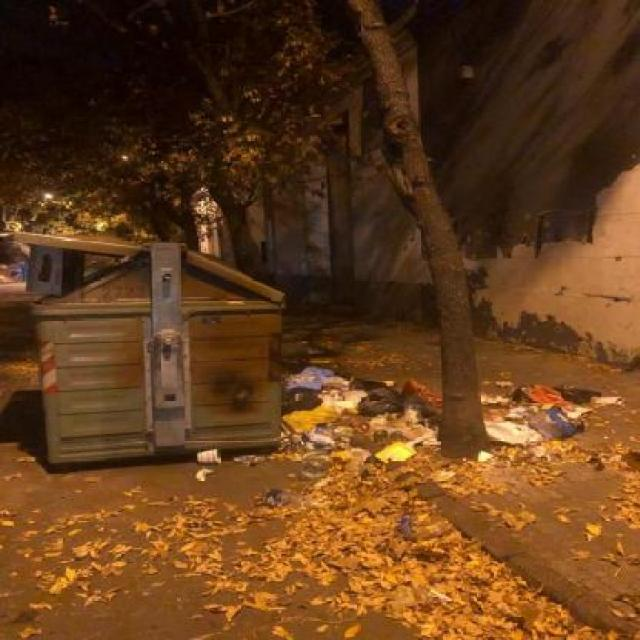garbage: (14, 488, 278, 637), (310, 506, 596, 640), (474, 360, 630, 514), (271, 351, 396, 488), (179, 445, 234, 476)
